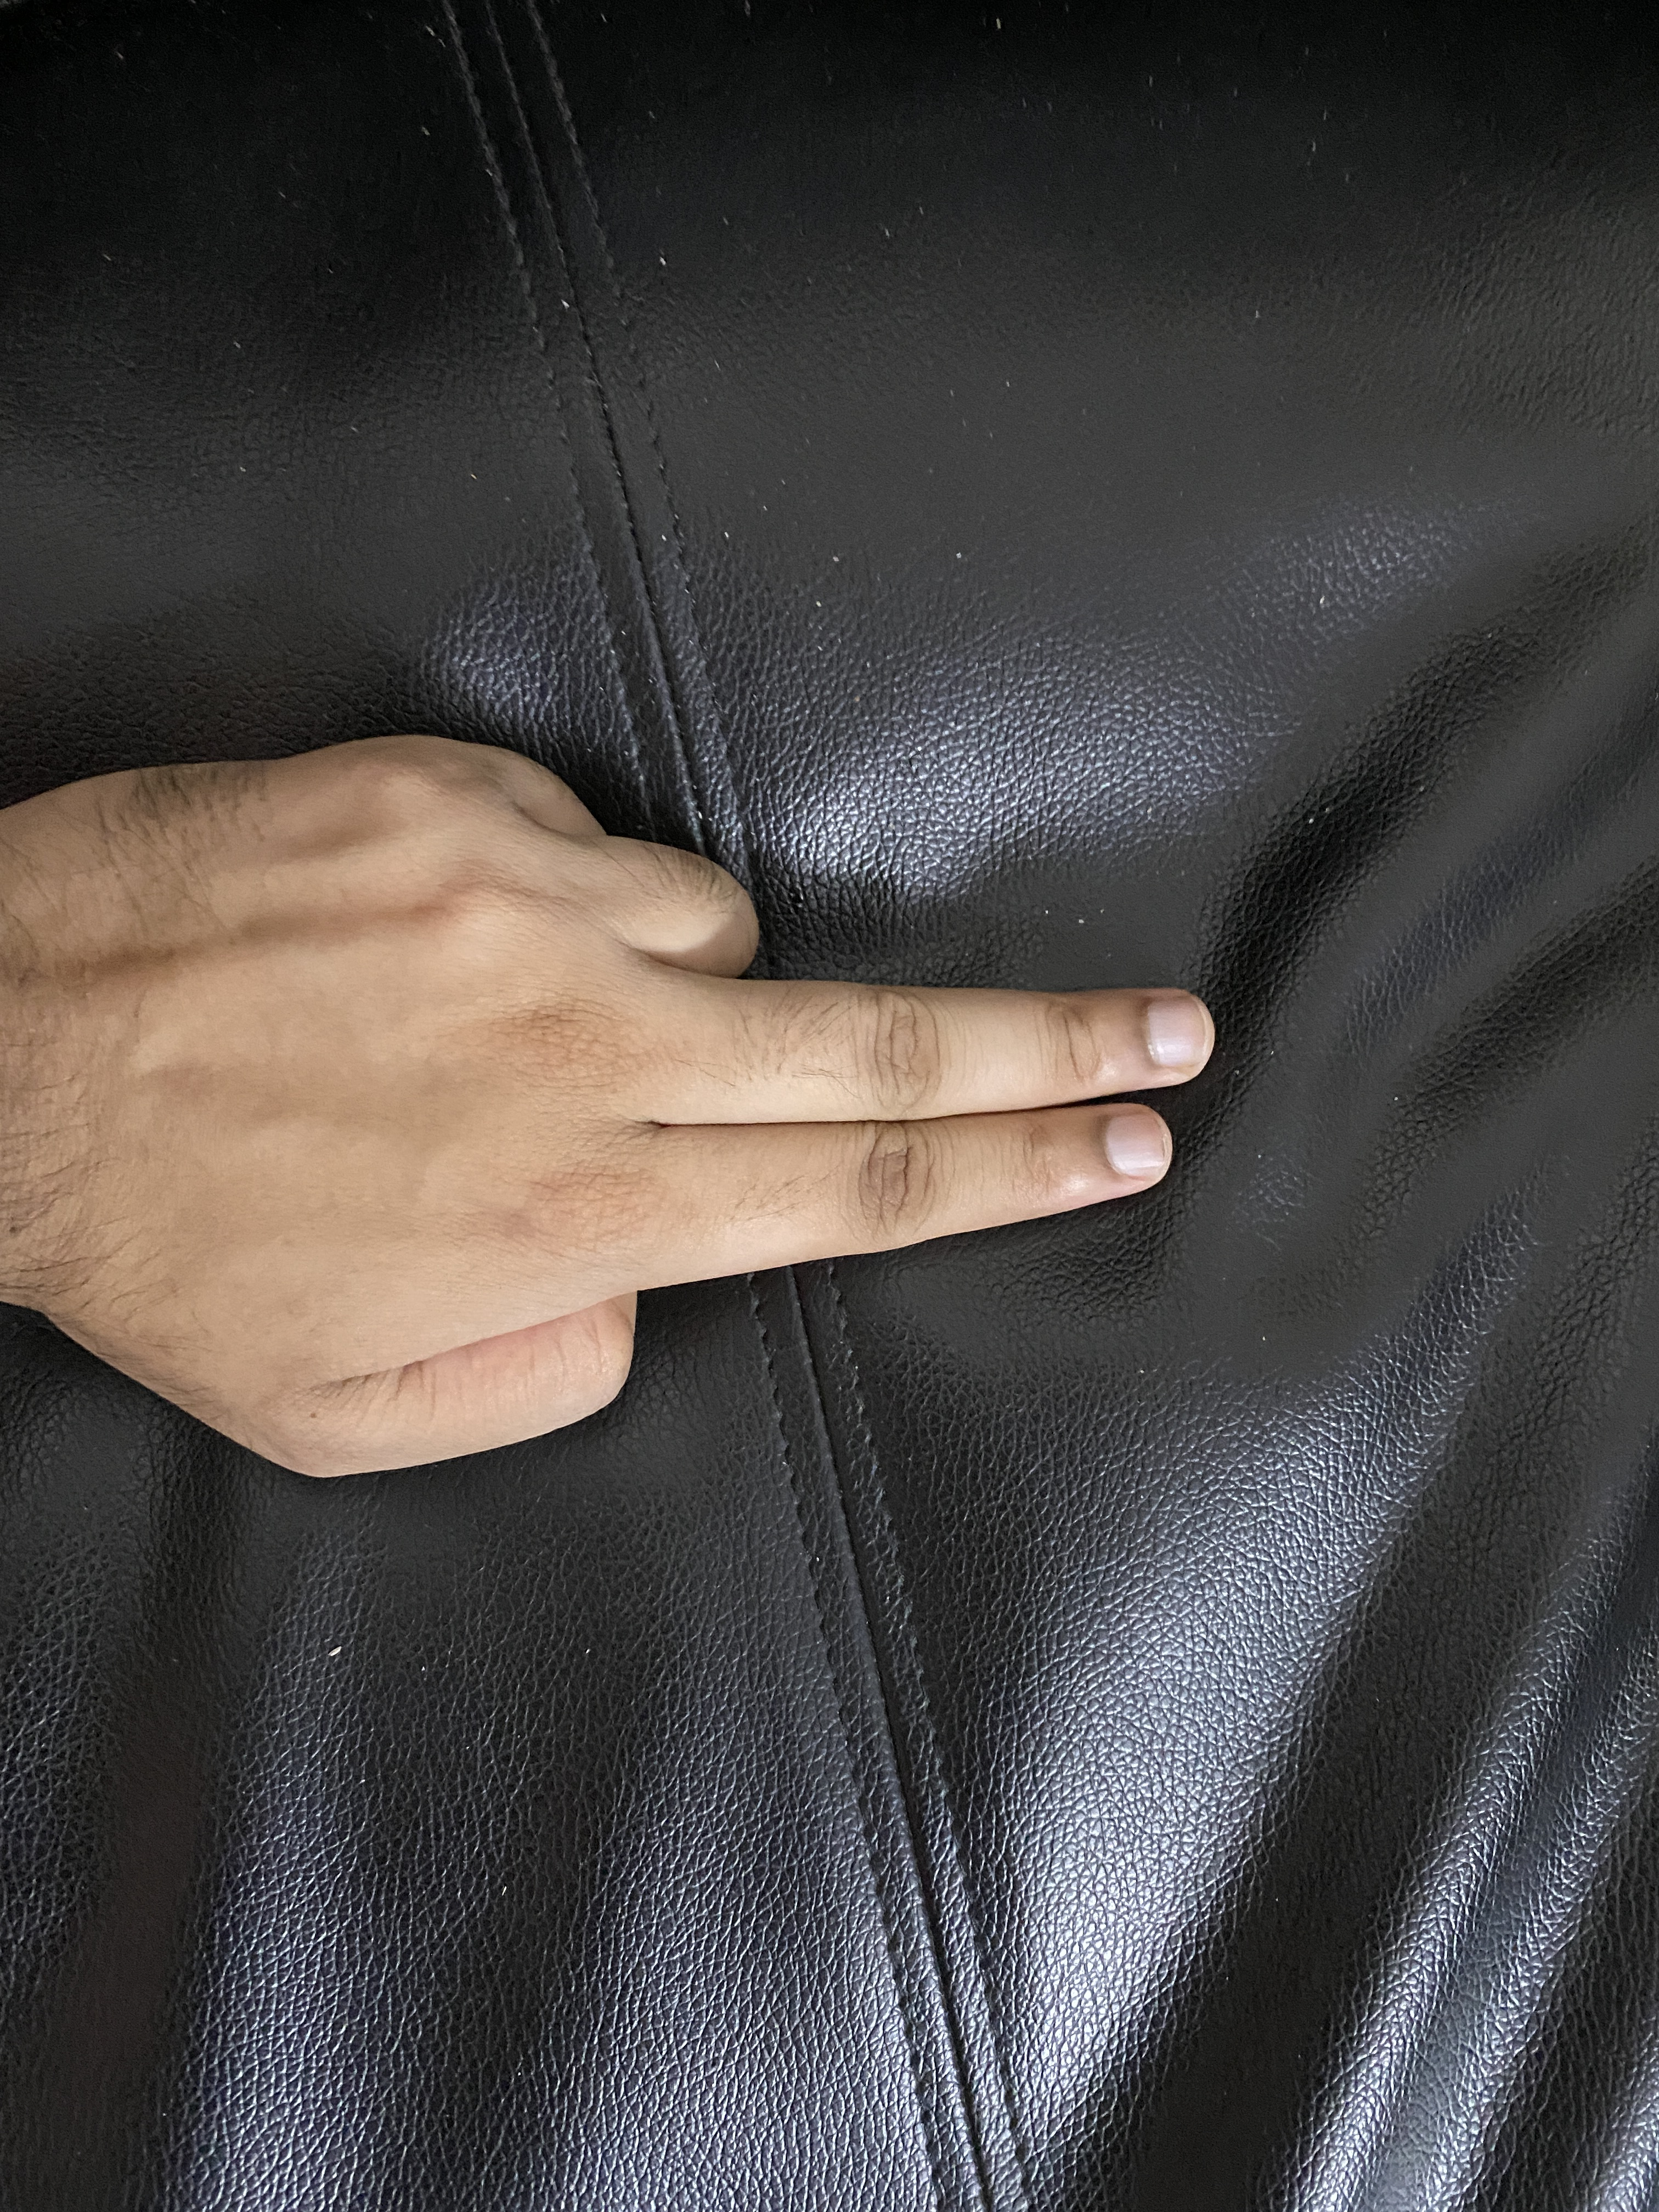left: (12, 665, 1321, 1601)
